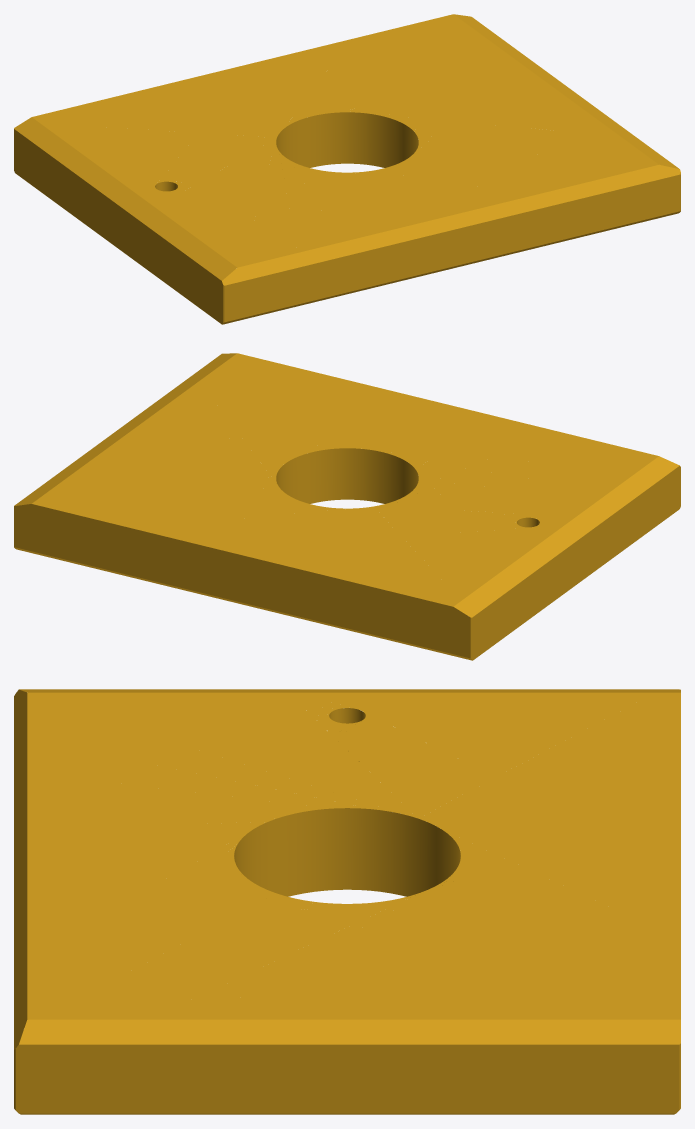
File: asinma-cat-cat-140-03.glb
3 renders of one model, top to bottom at view 1: azimuth 30°, elevation 25°; view 2: azimuth 150°, elevation 25°; view 3: azimuth 270°, elevation 25°, orthographic. The views are drawn at different scales.
Parts seen in each view (by area): view 1: body; view 2: body; view 3: body.
Boxes of the visible parts, x1,y1,x2,y2 form: body: (14, 14, 680, 324); body: (14, 353, 680, 660); body: (14, 689, 680, 1114).
Bounding box in the file's own units: 0.252 × 0.027 × 0.2.
